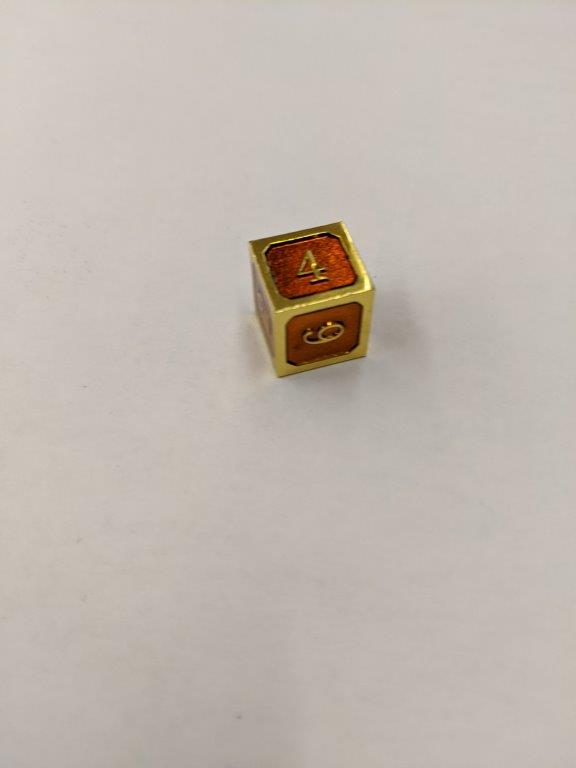d6-4: (247, 218, 377, 377)
